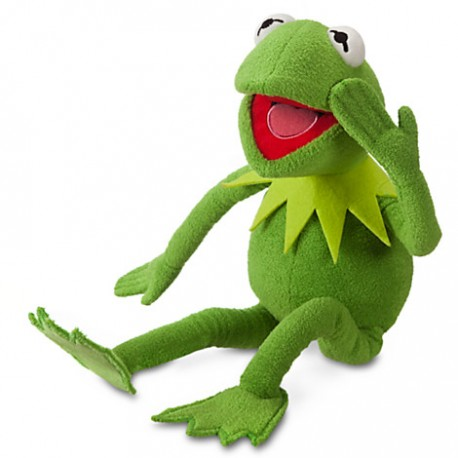kermit: (233, 13, 385, 176)
